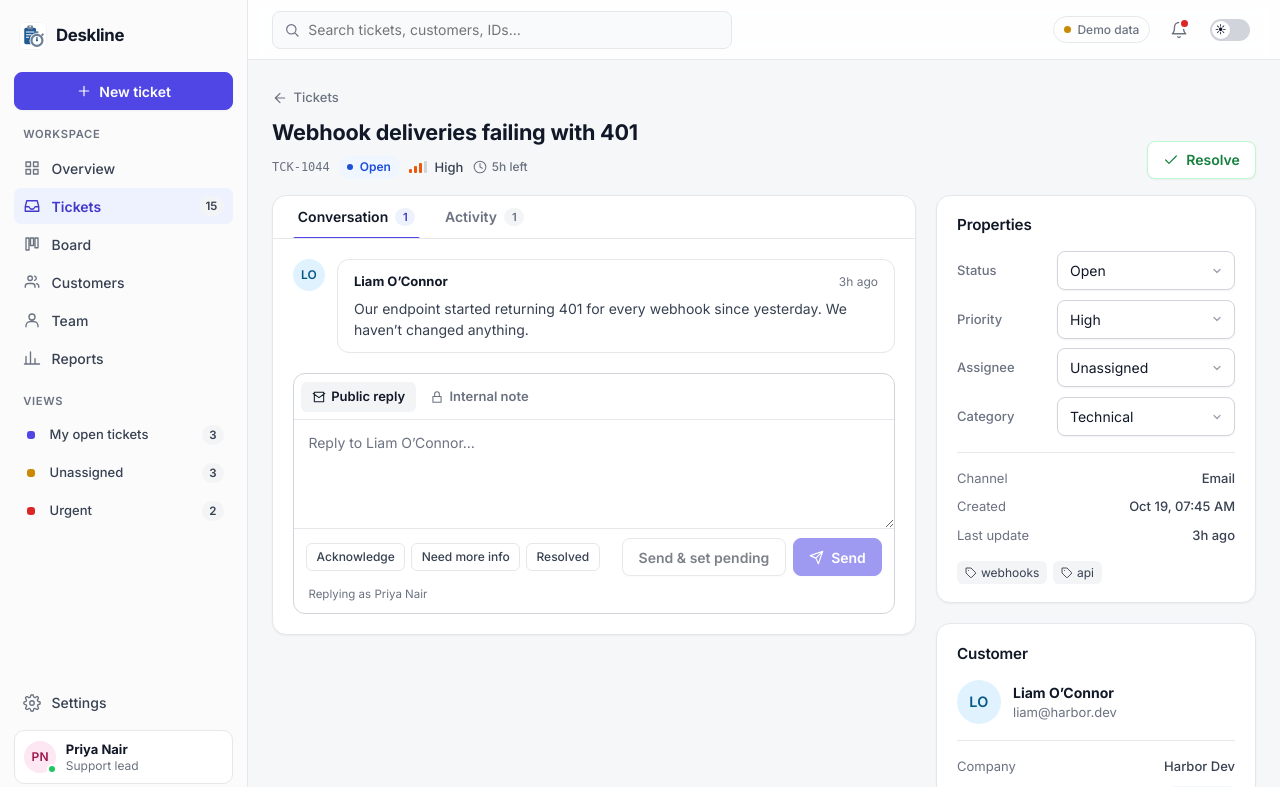
App › replying on a ticket adds the message to the thread
Check: the heading "Webhook deliveries failing with 401" is shown, box [272,118,638,144]
Type "Rotating your signing secret now." into the text box labelled "Reply to Liam O’Connor…".
click(594, 474); type("Rotating your signing secret now.")  # box [294,420,894,528]
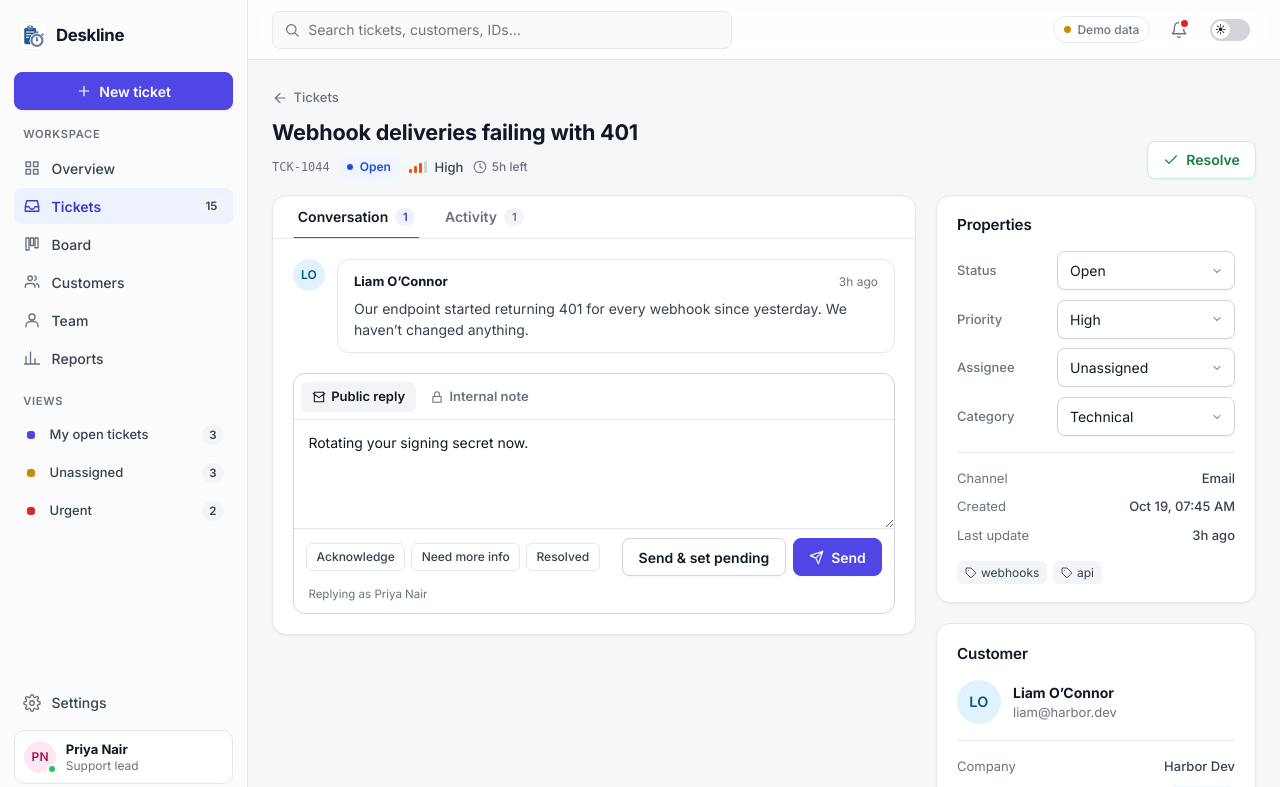
Click the button "Send".
click(837, 557)  # box [793,538,882,576]
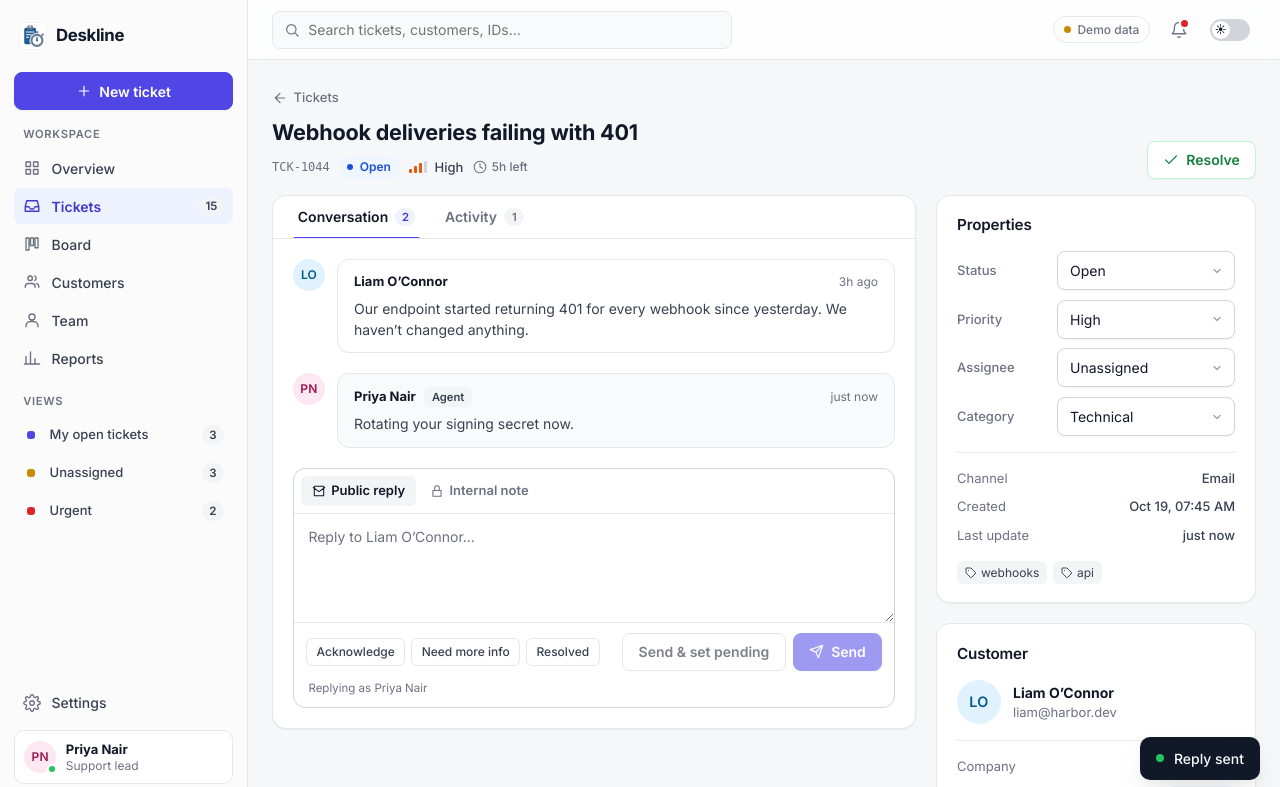
Check: the text "Rotating your signing secret now." is shown, box [354,415,574,432]
